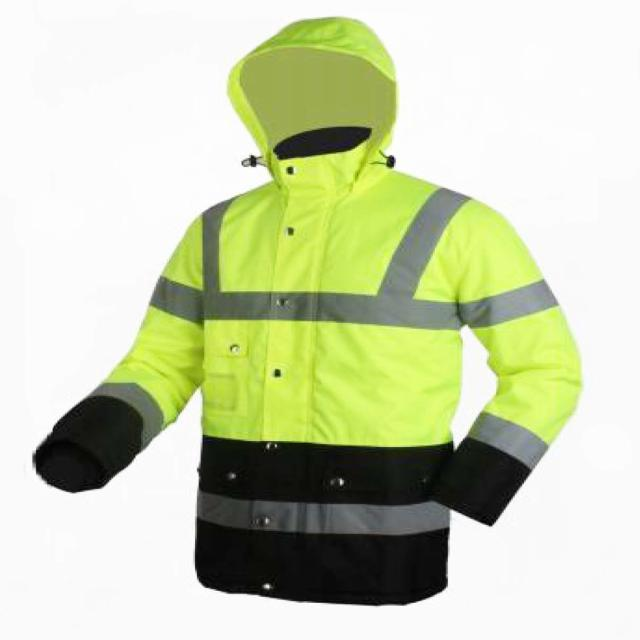Reflective-Jacket: (104, 162, 595, 600)
Safety-Helmet: (214, 10, 413, 155)
